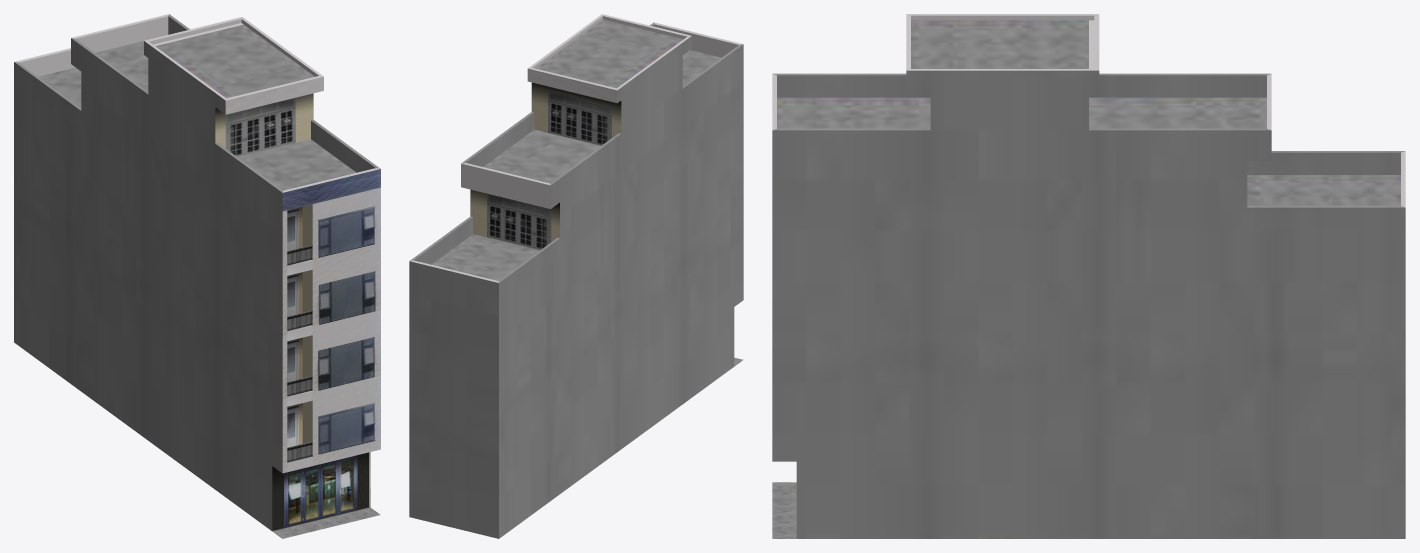
The picture shows the model from 3 angles, left to right: view 1: azimuth 30°, elevation 25°; view 2: azimuth 150°, elevation 25°; view 3: azimuth 270°, elevation 25°; orthographic projection. The views are drawn at different scales.
Parts seen in each view (by area): view 1: 5cd3f6aac833656db821dacb.001; view 2: 5cd3f6aac833656db821dacb.001; view 3: 5cd3f6aac833656db821dacb.001.
Part boxes in pixels (bbox=[...]): 5cd3f6aac833656db821dacb.001: bbox=[14, 14, 380, 538]; 5cd3f6aac833656db821dacb.001: bbox=[409, 14, 743, 538]; 5cd3f6aac833656db821dacb.001: bbox=[772, 14, 1405, 538].
Size of the model in its own units: 5.5 by 21.21 by 26.
1 material, 1 textured.
